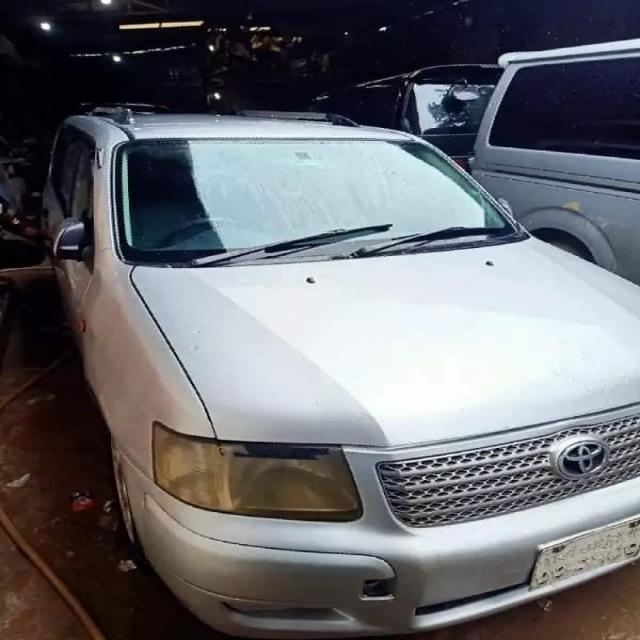silver: (10, 105, 640, 640)
